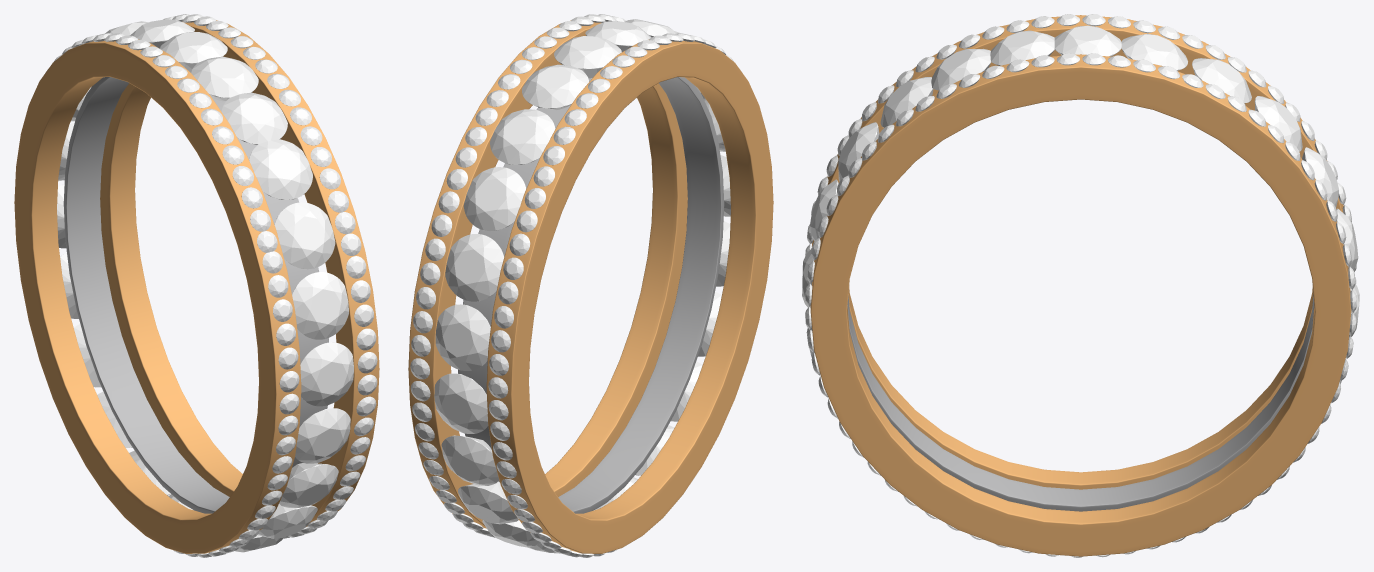
Rendered from rounded.glb.
The picture shows the model from 3 angles, left to right: view 1: azimuth 30°, elevation 25°; view 2: azimuth 150°, elevation 25°; view 3: azimuth 270°, elevation 25°; orthographic projection. The views are drawn at different scales.
Visible parts, largest first — view 1: pPipe3, kafi_bade, pPipe6, chote_1; view 2: pPipe3, kafi_bade, pPipe6, chote_1; view 3: pPipe3, kafi_bade, chote_1, pPipe6.
Boxes of the visible parts, box(x1,y1,x2,y2) form: pPipe3: box(14, 20, 379, 553); kafi_bade: box(57, 19, 353, 552); pPipe6: box(63, 77, 328, 513); chote_1: box(45, 14, 377, 557); pPipe3: box(408, 20, 773, 553); kafi_bade: box(434, 19, 730, 553); pPipe6: box(458, 77, 724, 513); chote_1: box(410, 14, 742, 557); pPipe3: box(810, 15, 1351, 556); kafi_bade: box(802, 25, 1359, 384); chote_1: box(805, 14, 1356, 557); pPipe6: box(847, 295, 1314, 511).
Bounding box in the file's own units: 0.6182 × 2.79 × 2.79.
